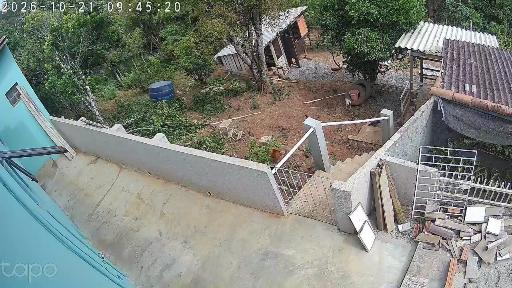frango: (344, 98, 352, 109)
galinha: (368, 120, 381, 128), (305, 114, 317, 120), (408, 110, 415, 116)
galo: (270, 148, 284, 162)
